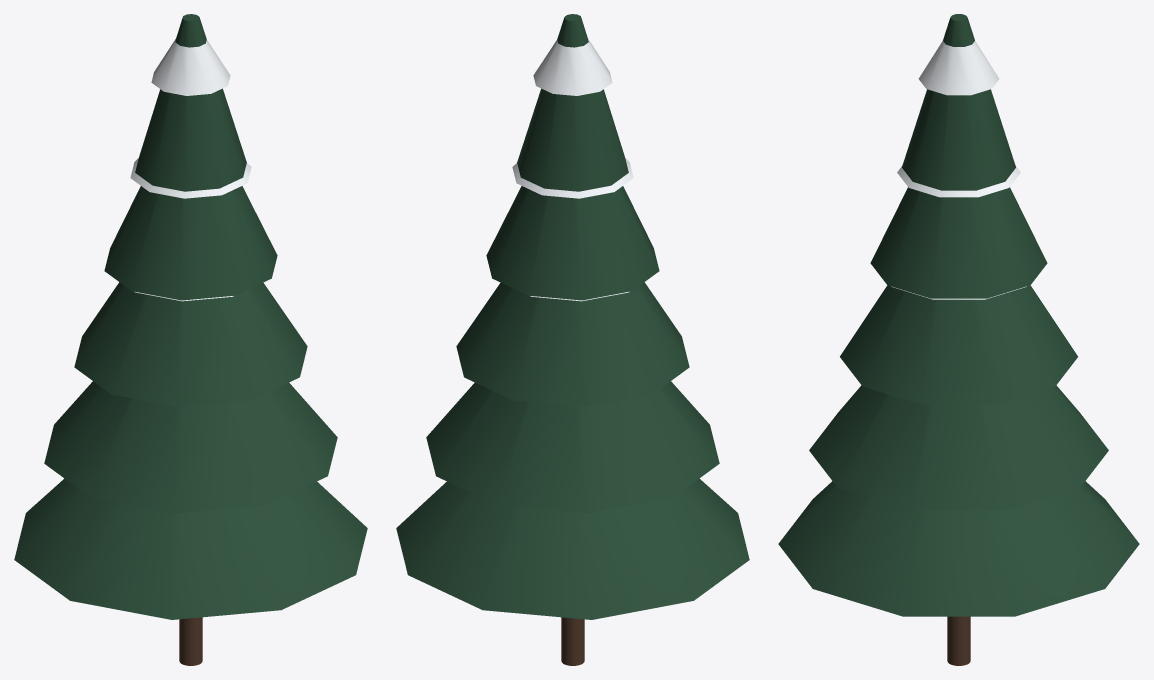
The model's file is pine_big.glb.
3 renders of one model, left to right at view 1: azimuth 30°, elevation 25°; view 2: azimuth 150°, elevation 25°; view 3: azimuth 270°, elevation 25°, orthographic.
Parts seen in each view (by area): view 1: needles, snowcaps, Cylinder; view 2: needles, snowcaps, Cylinder; view 3: needles, snowcaps, Cylinder.
Part boxes in pixels (left/top/right/bottom): needles: left=14, top=14, right=367, bottom=619; snowcaps: left=130, top=39, right=251, bottom=301; Cylinder: left=179, top=617, right=202, bottom=665; needles: left=396, top=14, right=749, bottom=619; snowcaps: left=512, top=39, right=633, bottom=301; Cylinder: left=561, top=617, right=584, bottom=665; needles: left=778, top=14, right=1139, bottom=616; snowcaps: left=891, top=41, right=1026, bottom=299; Cylinder: left=947, top=616, right=970, bottom=665.
Size of the model in its own units: 5.33 by 11 by 5.6.
